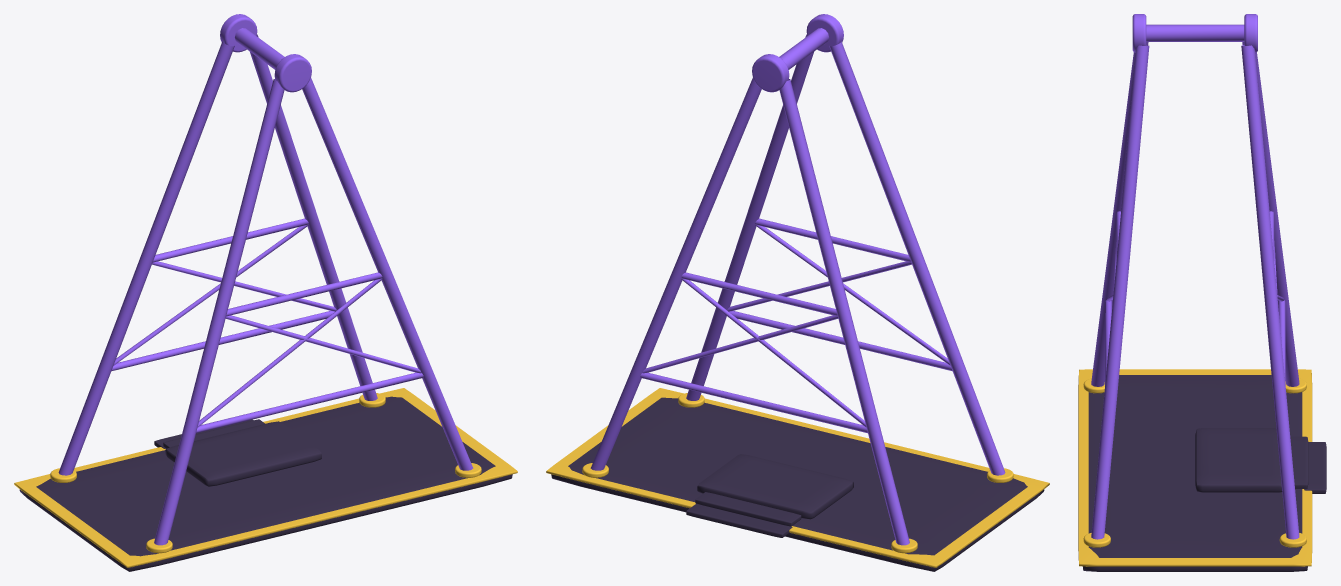
File: LobbyFerrisStand.obj
3 renders of one model, left to right at view 1: azimuth 30°, elevation 25°; view 2: azimuth 150°, elevation 25°; view 3: azimuth 270°, elevation 25°, orthographic. The views are drawn at different scales.
Visible parts, largest first — view 1: Base, Legs, Trim; view 2: Base, Legs, Trim; view 3: Base, Legs, Trim.
Boxes of the visible parts, x1,y1,x2,y2 form: Base: (19,396,512,571); Legs: (58,14,473,545); Trim: (14,388,517,567); Base: (551,397,1044,571); Legs: (590,14,1005,545); Trim: (546,388,1049,567); Base: (1082,375,1326,571); Legs: (1091,14,1299,539); Trim: (1078,369,1312,566).
Size of the model in its own units: 40.5 by 44.7 by 21.75.
